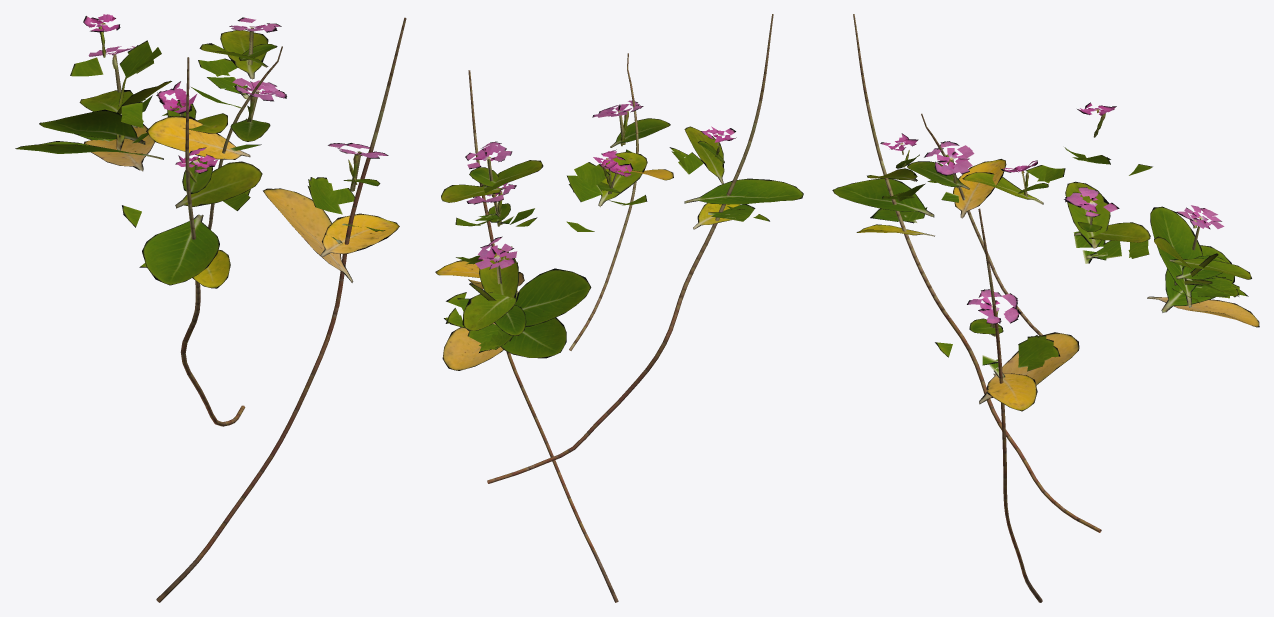
The picture shows the model from 3 angles, left to right: view 1: azimuth 30°, elevation 25°; view 2: azimuth 150°, elevation 25°; view 3: azimuth 270°, elevation 25°; orthographic projection. The views are drawn at different scales.
Parts seen in each view (by area): view 1: periwinkle_plant_01_LOD0; view 2: periwinkle_plant_01_LOD0; view 3: periwinkle_plant_01_LOD0.
Boxes of the visible parts, box(x1,y1,x2,y2) form: periwinkle_plant_01_LOD0: box(15, 14, 406, 602); periwinkle_plant_01_LOD0: box(435, 14, 803, 602); periwinkle_plant_01_LOD0: box(832, 14, 1259, 602).
Bounding box in the file's own units: 0.2888 × 0.5223 × 0.3642.
Materials: 1 (1 with a texture image).
